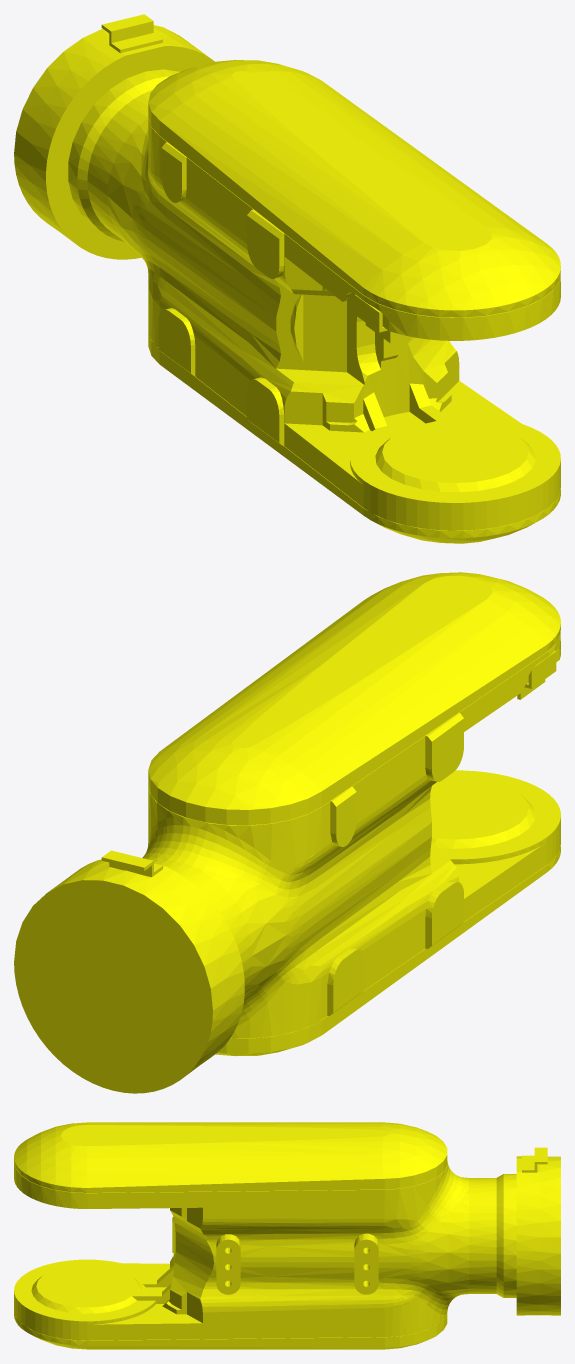
3 views of the same model, one above another, from view 1: azimuth 30°, elevation 25°; view 2: azimuth 150°, elevation 25°; view 3: azimuth 270°, elevation 25° (orthographic). The views are drawn at different scales.
Parts seen in each view (by area): view 1: node; view 2: node; view 3: node.
Part boxes in pixels (bbox=[...]): node: bbox=[14, 14, 560, 543]; node: bbox=[14, 572, 560, 1093]; node: bbox=[14, 1122, 560, 1349].
Bounding box in the file's own units: 196 × 279 × 673.
